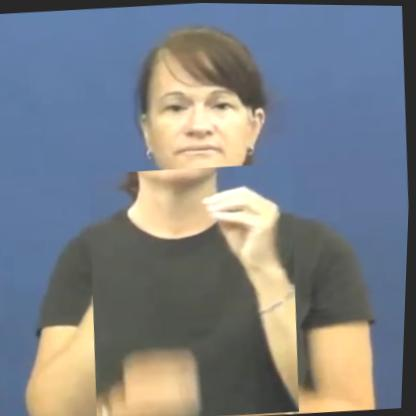Fix: (83, 159, 309, 416)
